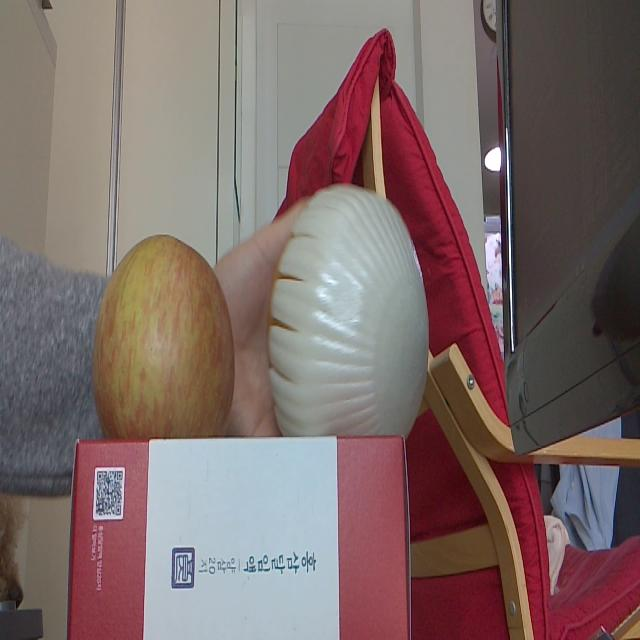apple: (94, 234, 234, 438)
pear: (267, 185, 431, 434)
